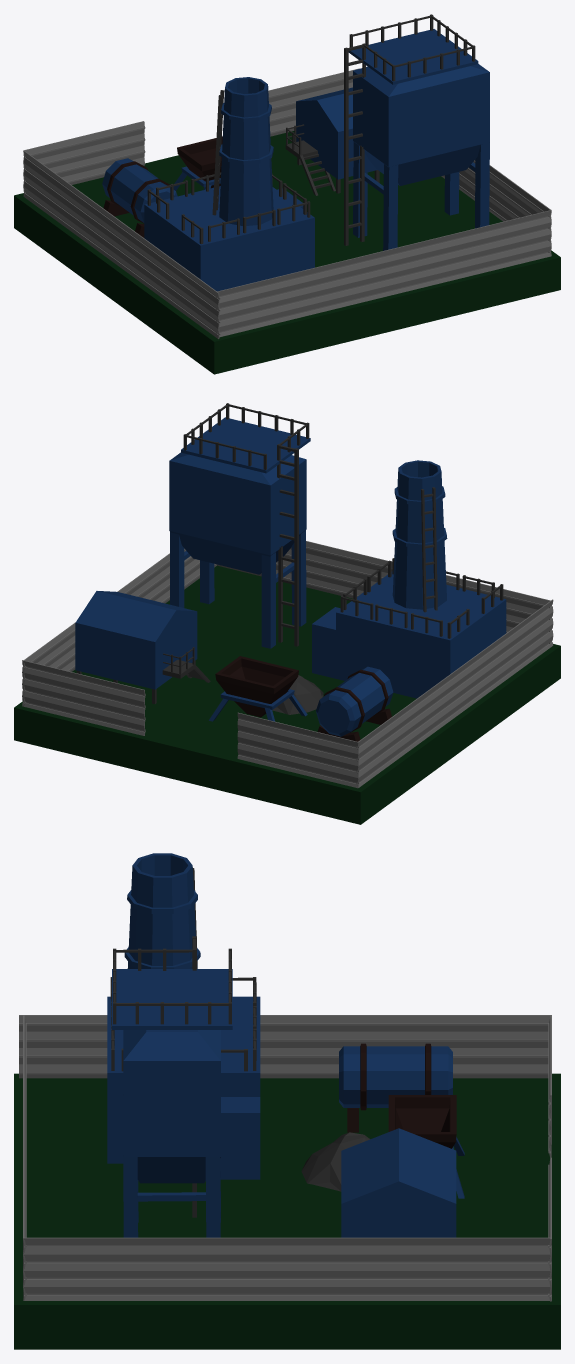
Rendered from ChemicalPlant.FBX.
3 views of the same model, one above another, from view 1: azimuth 30°, elevation 25°; view 2: azimuth 150°, elevation 25°; view 3: azimuth 270°, elevation 25° (orthographic). The views are drawn at different scales.
Parts seen in each view (by area): view 1: ChemicalPlant; view 2: ChemicalPlant; view 3: ChemicalPlant.
Part boxes in pixels (bbox=[...]): ChemicalPlant: bbox=[14, 14, 560, 374]; ChemicalPlant: bbox=[14, 403, 560, 824]; ChemicalPlant: bbox=[14, 853, 560, 1349].
Bounding box in the file's own units: 10000 × 6319 × 10000.
